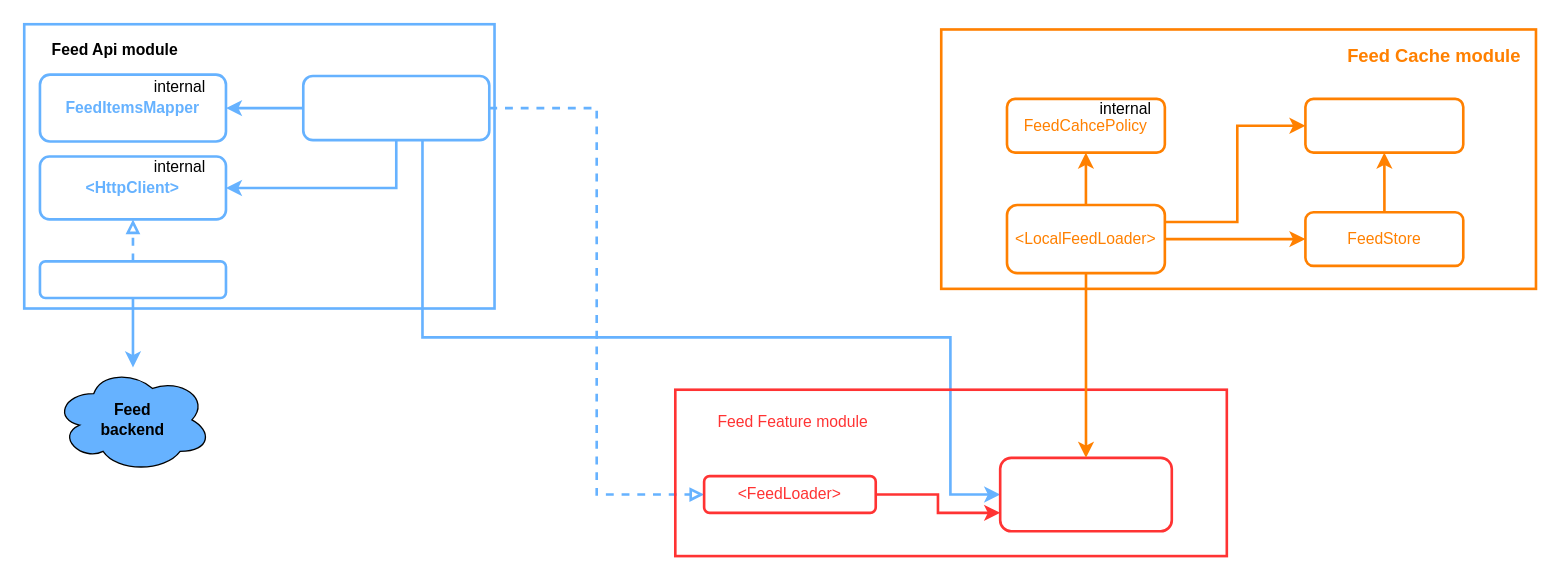
The diagram is 1559 pixels wide and 579 high, and some of its shapes have lost their labels. Each missing label, with the centre of its shape:
"FeedImage" goes at point (1085, 494).
"LocalFeedImage" goes at point (1383, 125).
"RemoteFeedLoader" goes at point (395, 107).
"URLSessionHttpClient" goes at point (132, 279).
